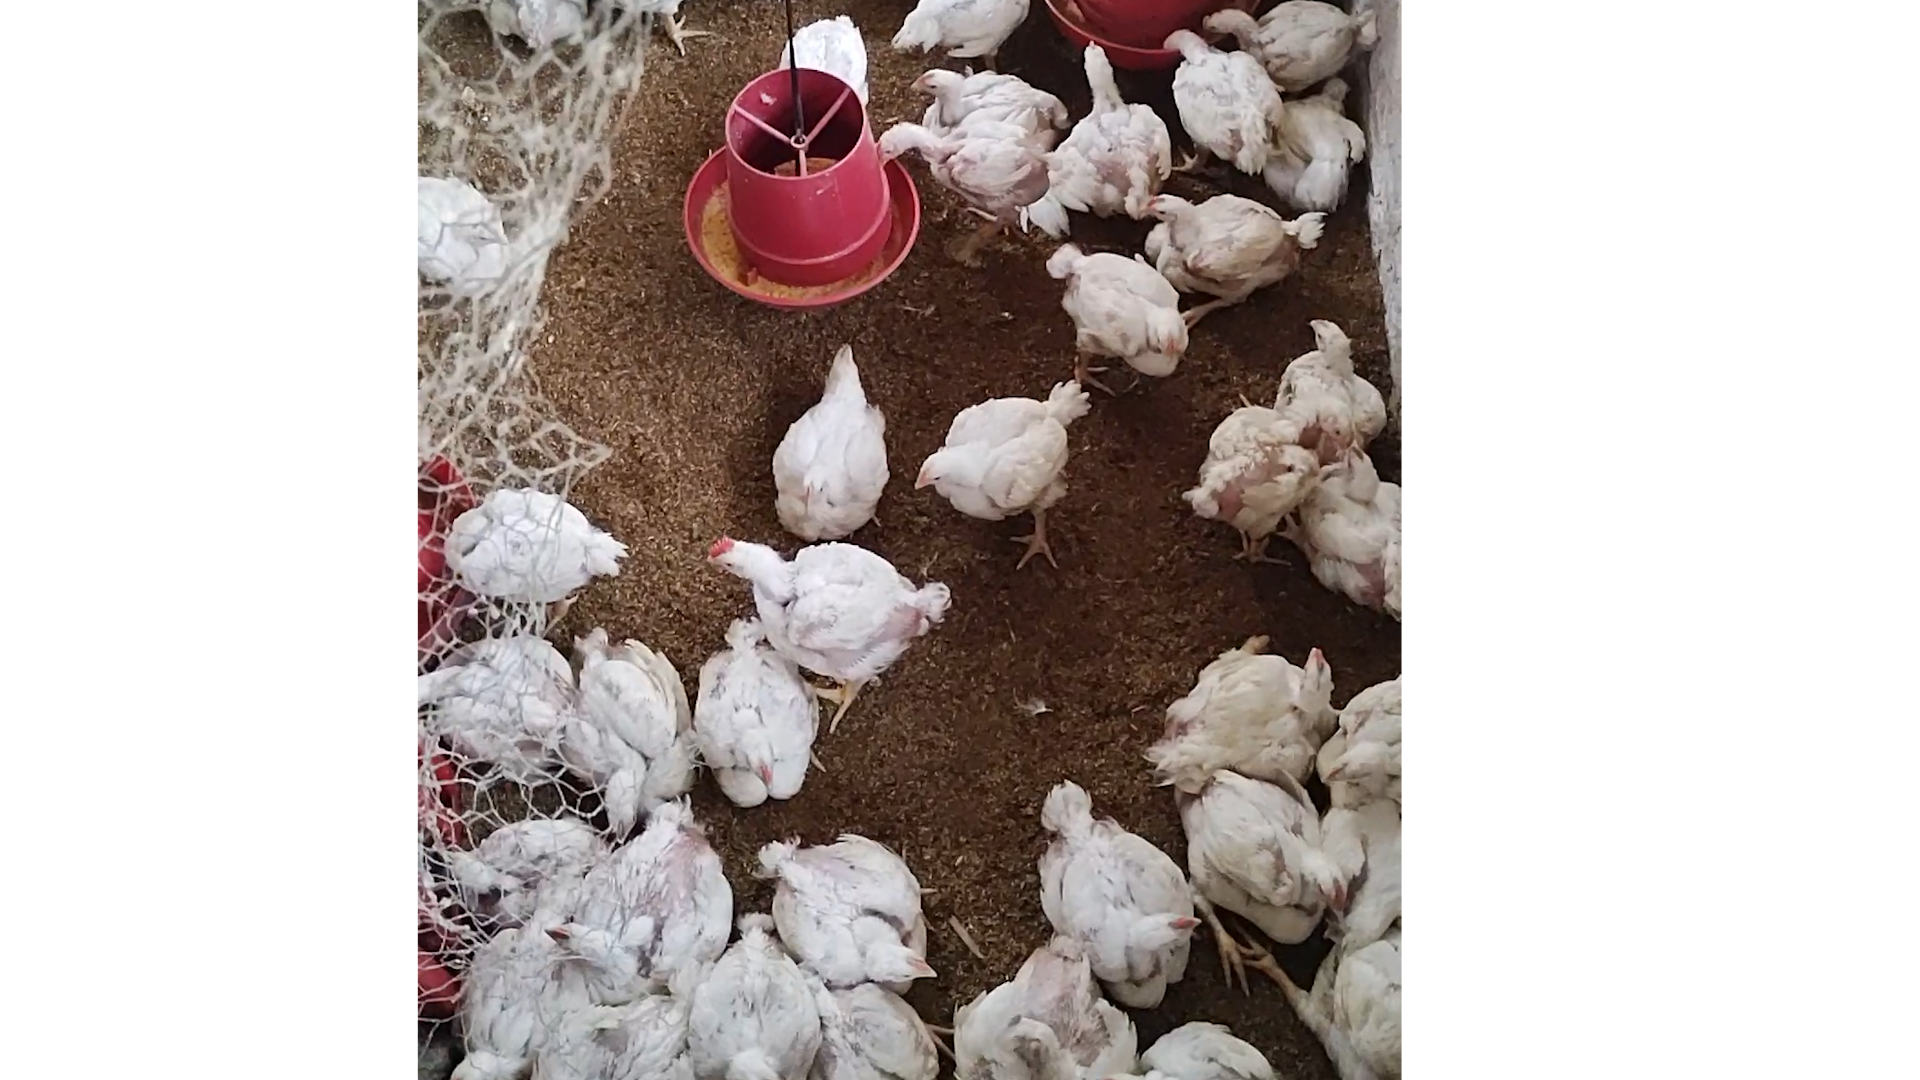Pollos: (1025, 786, 1207, 1010), (702, 527, 949, 680), (543, 796, 733, 996), (1183, 761, 1348, 945), (770, 829, 942, 1001), (560, 629, 692, 845), (947, 938, 1139, 1080), (440, 483, 629, 625), (1151, 632, 1332, 778), (692, 621, 828, 808), (680, 909, 820, 1080), (769, 345, 891, 541), (913, 386, 1081, 520), (1185, 400, 1354, 531), (1048, 38, 1171, 211), (415, 640, 579, 766), (789, 945, 942, 1080), (868, 113, 1058, 222), (448, 916, 572, 1079), (1050, 243, 1189, 382), (1160, 17, 1284, 171), (1137, 189, 1299, 303), (447, 816, 617, 924), (1300, 440, 1400, 613), (1262, 69, 1367, 219), (1276, 309, 1389, 442), (1203, 1, 1379, 80), (909, 62, 1071, 146), (886, 0, 1035, 67), (775, 9, 876, 105)
